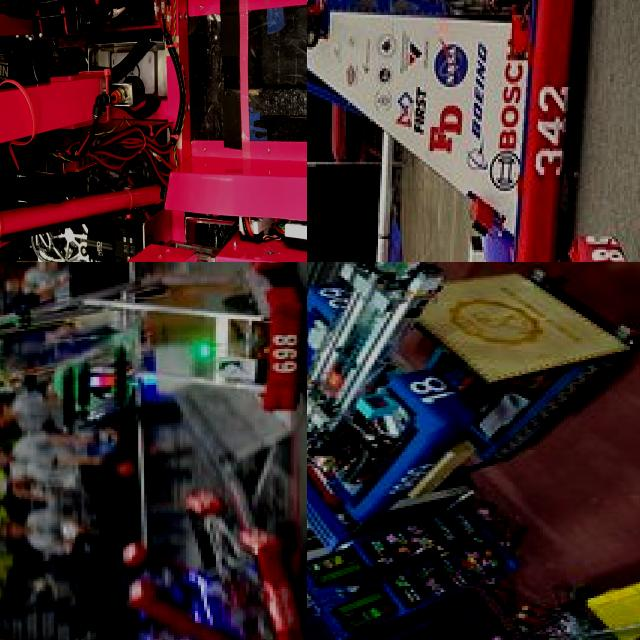FRC-Robots: (307, 262, 564, 556), (307, 0, 579, 262), (0, 262, 307, 461), (190, 481, 304, 640), (112, 536, 254, 640)
